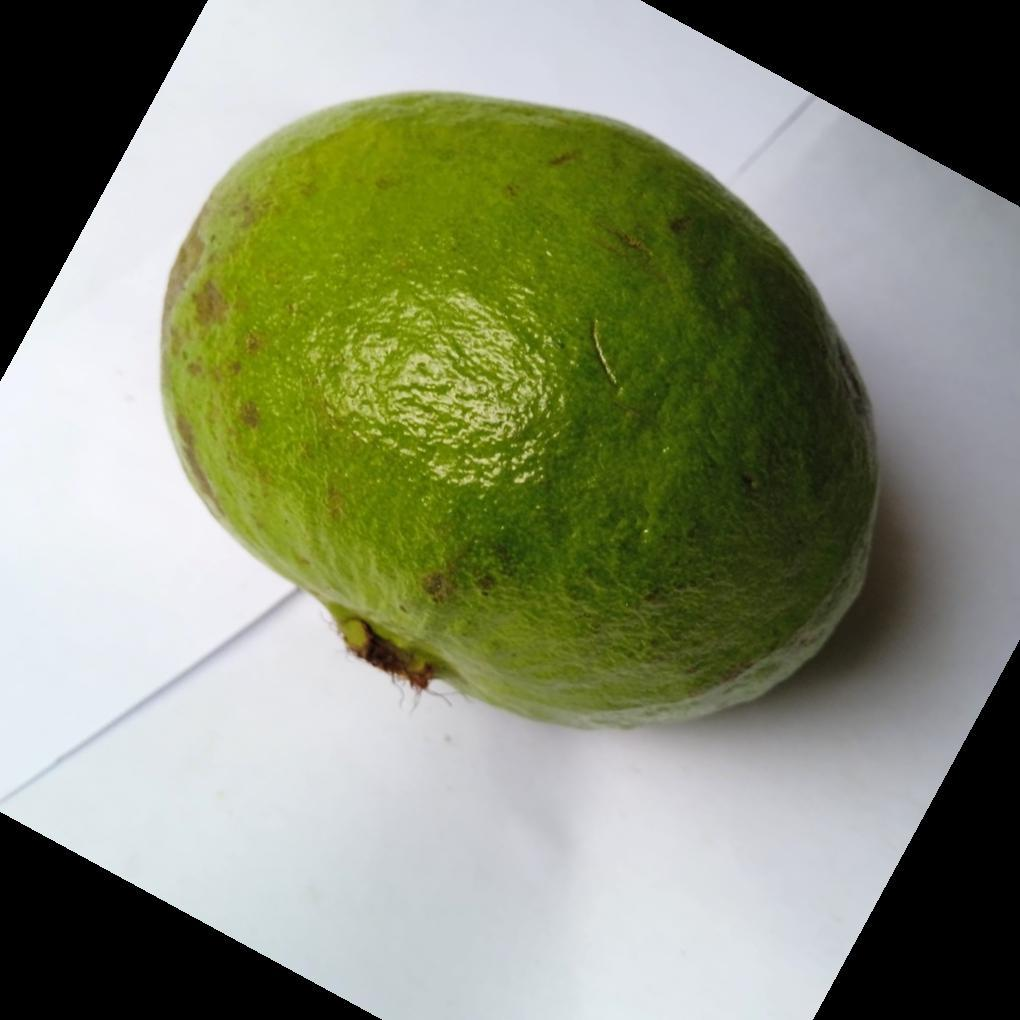FreshGuava: (158, 93, 883, 733)
